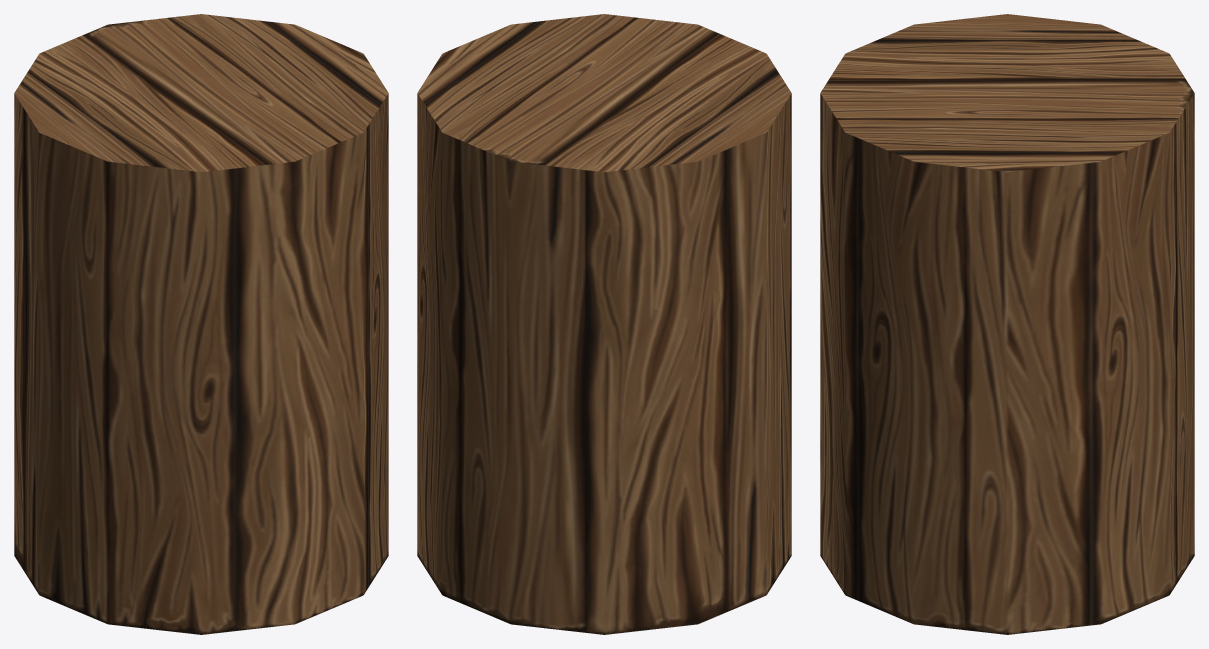
File: PIL0110008.FBX
The picture shows the model from 3 angles, left to right: view 1: azimuth 30°, elevation 25°; view 2: azimuth 150°, elevation 25°; view 3: azimuth 270°, elevation 25°; orthographic projection.
Parts seen in each view (by area): view 1: smPIL0110008; view 2: smPIL0110008; view 3: smPIL0110008.
Boxes of the visible parts, x1,y1,x2,y2 form: smPIL0110008: (14,14,388,634); smPIL0110008: (417,14,791,634); smPIL0110008: (820,14,1194,634).
Bounding box in the file's own units: 0.6275 × 0.8557 × 0.6275.
1 material, 1 textured.
